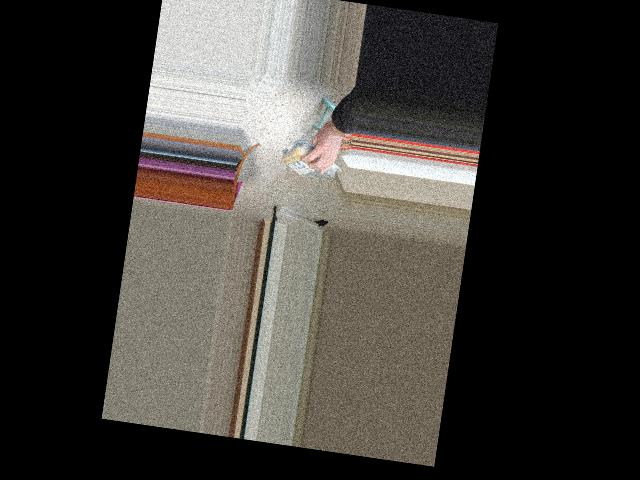cheese: (279, 143, 343, 181)
